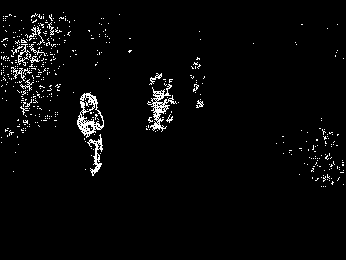person: (77, 91, 107, 176), (189, 55, 206, 109)
